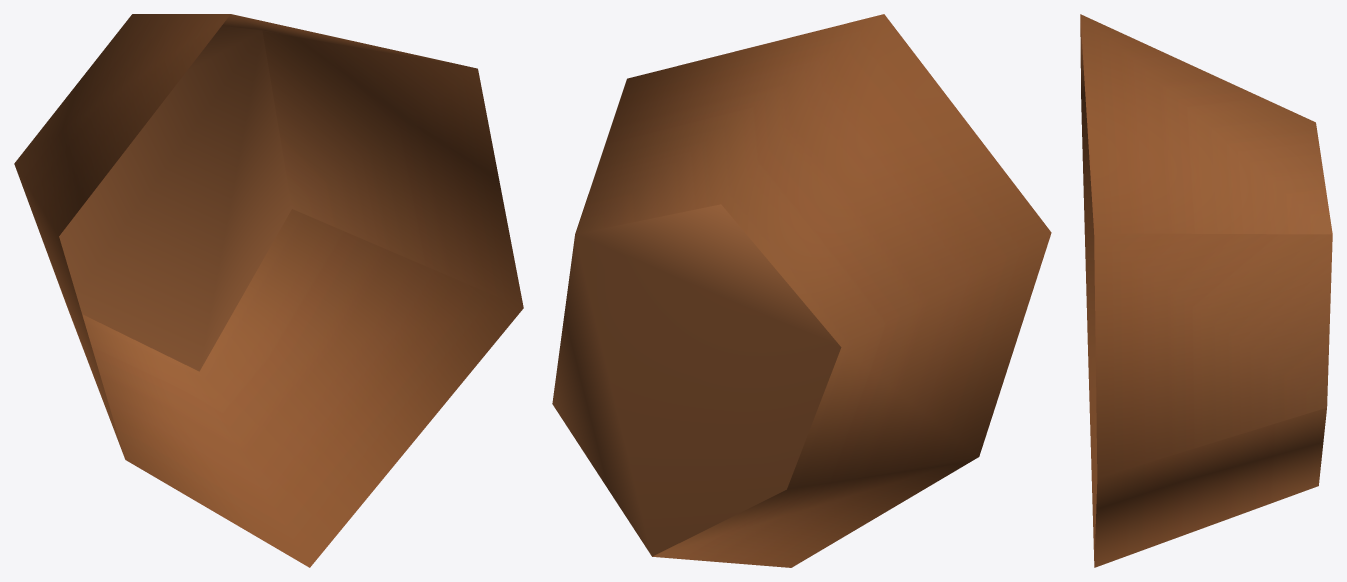
Rendered from Stone 03.FBX.
The picture shows the model from 3 angles, left to right: view 1: azimuth 30°, elevation 25°; view 2: azimuth 150°, elevation 25°; view 3: azimuth 270°, elevation 25°; orthographic projection. The views are drawn at different scales.
Parts seen in each view (by area): view 1: Stone 03; view 2: Stone 03; view 3: Stone 03.
Boxes of the visible parts, x1=… form: Stone 03: x1=14, y1=14, x2=523, y2=567; Stone 03: x1=552, y1=14, x2=1051, y2=567; Stone 03: x1=1080, y1=14, x2=1332, y2=567.
Bounding box in the file's own units: 25.92 × 30.37 × 13.46.
1 material, 1 textured.
